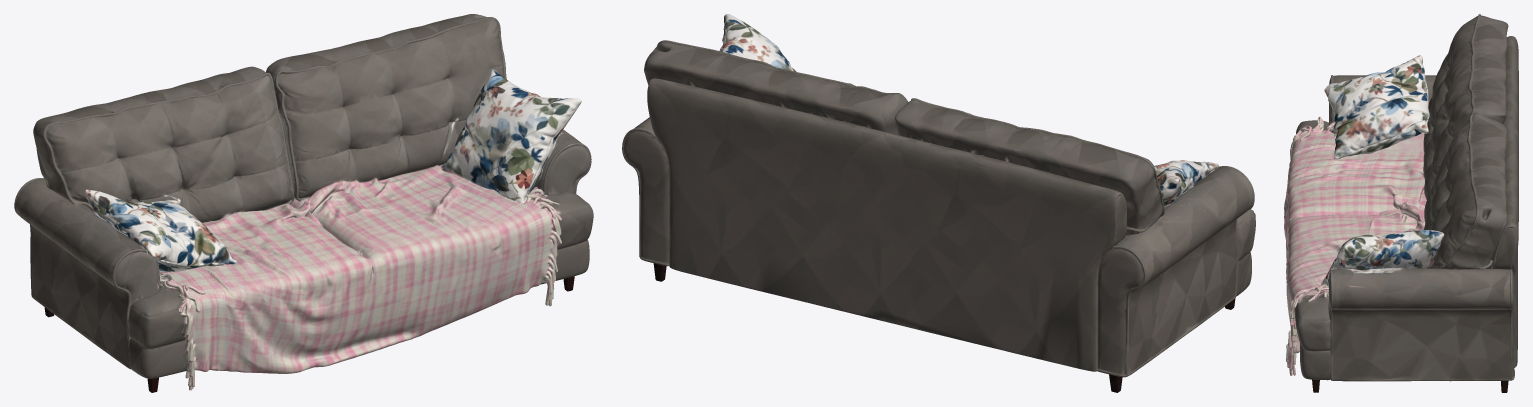
File: sofa-hq.glb
3 views of the same model, side by side, from view 1: azimuth 30°, elevation 25°; view 2: azimuth 150°, elevation 25°; view 3: azimuth 270°, elevation 25° (orthographic). The views are drawn at different scales.
Bounding box in the file's own units: 2 × 0.8348 × 0.9332.
1 material, 1 textured.
